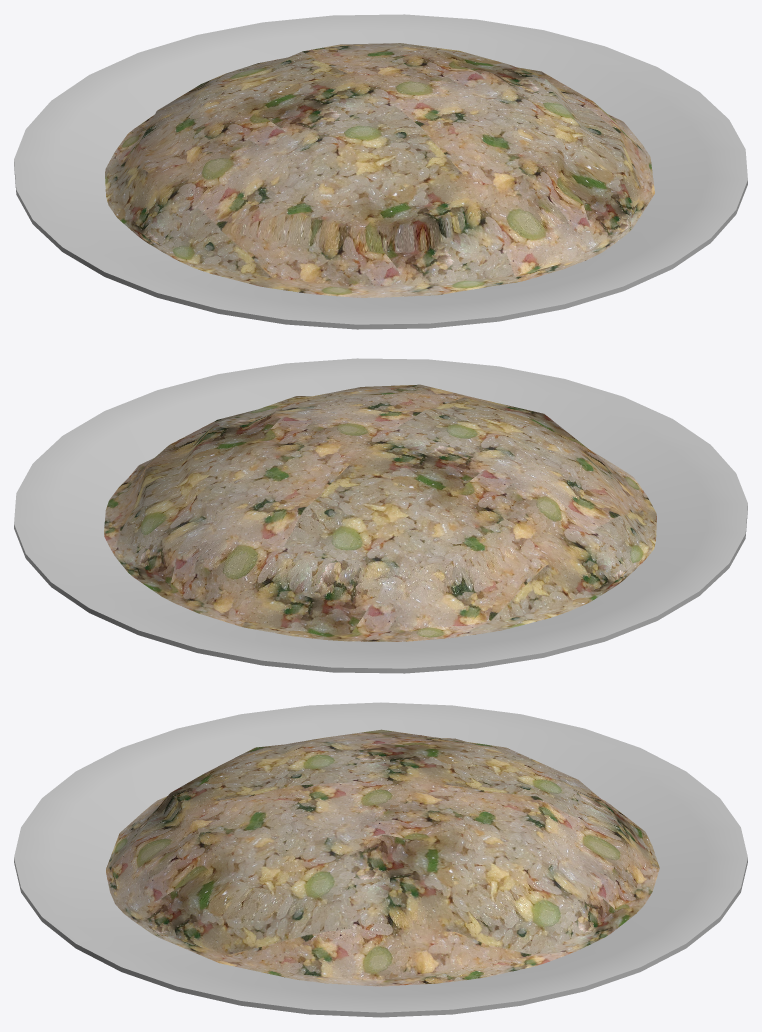
The model's file is yakimeshi.fbx.
The picture shows the model from 3 angles, top to bottom: view 1: azimuth 30°, elevation 25°; view 2: azimuth 150°, elevation 25°; view 3: azimuth 270°, elevation 25°; orthographic projection.
Visible parts, largest first — view 1: yakimeshi_high; view 2: yakimeshi_high; view 3: yakimeshi_high.
Boxes of the visible parts, box(x1,y1,x2,y2) form: yakimeshi_high: box(14, 14, 747, 329); yakimeshi_high: box(14, 358, 747, 673); yakimeshi_high: box(14, 702, 747, 1017).
Bounding box in the file's own units: 2 × 0.4087 × 2.
